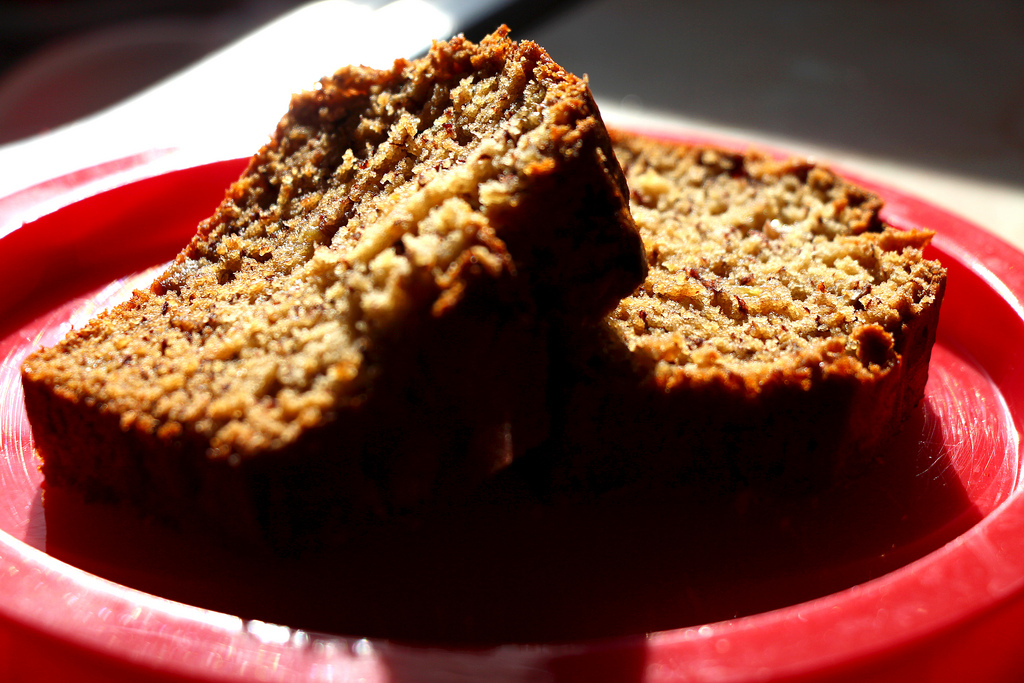slice of bread: (31, 37, 625, 501), (584, 127, 958, 461)
